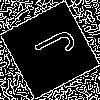J: (25, 25, 78, 70)
